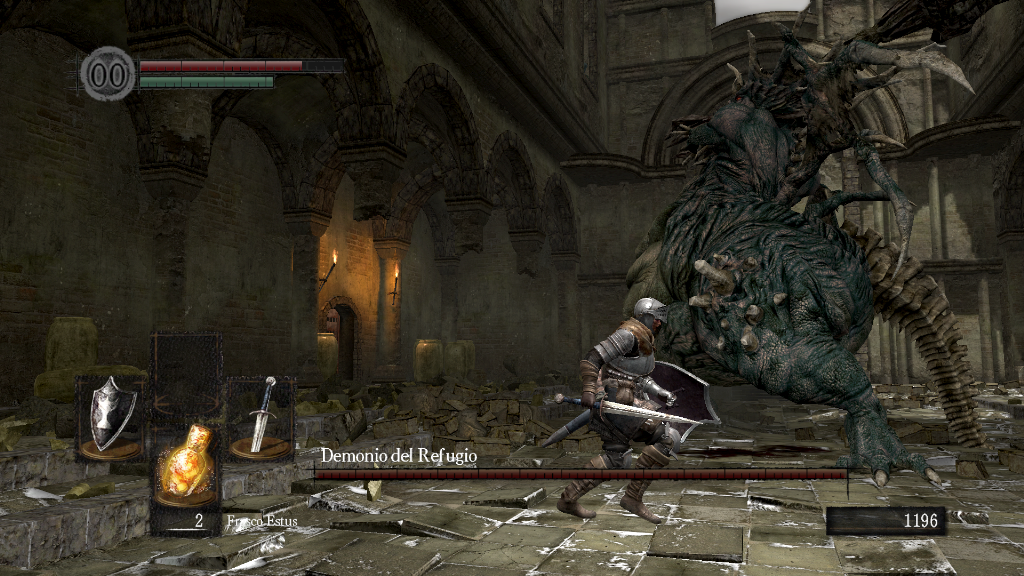asylumDemon: (619, 17, 1007, 487)
bossHP: (314, 469, 847, 479)
health: (138, 58, 343, 71)
humanity: (80, 45, 136, 102)
player: (556, 297, 724, 523)
souls: (825, 506, 945, 536)
stamina: (138, 74, 274, 88)
